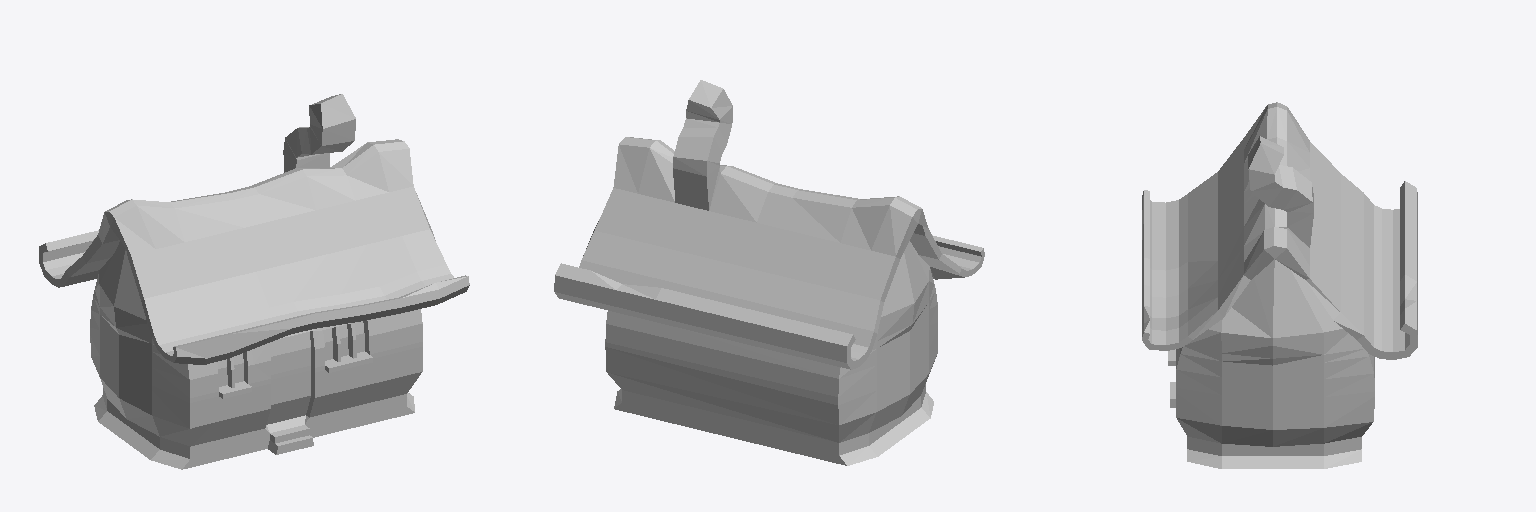
File: cartoonmedhouse3.obj
The picture shows the model from 3 angles: view 1: azimuth 30°, elevation 25°; view 2: azimuth 150°, elevation 25°; view 3: azimuth 270°, elevation 25°; orthographic projection.
Parts seen in each view (by area): view 1: cartoonmedhouse3; view 2: cartoonmedhouse3; view 3: cartoonmedhouse3.
Boxes of the visible parts, x1=… form: cartoonmedhouse3: x1=39, y1=94, x2=469, y2=469; cartoonmedhouse3: x1=554, y1=80, x2=984, y2=465; cartoonmedhouse3: x1=1142, y1=102, x2=1417, y2=468.
Bounding box in the file's own units: 207 × 201 × 168.